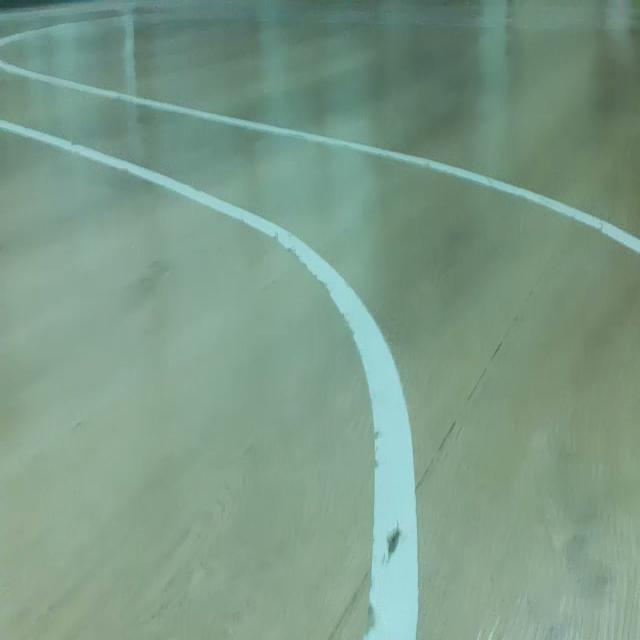Road-Area: (2, 68, 640, 638)
